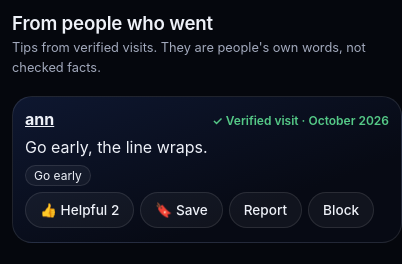
Test: TipsSection › marks a tip helpful and shows the new count, never who
Click the button "👍 Helpful 2". click: (80, 210)
box: [25,192,134,228]
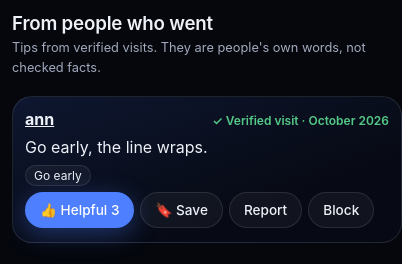
Expected: the button "👍 Helpful 3" is shown, [25,192,134,228]
